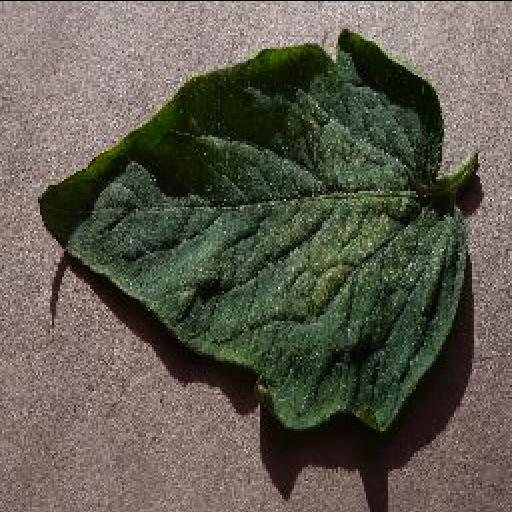disease_tomato: (34, 27, 470, 433)
